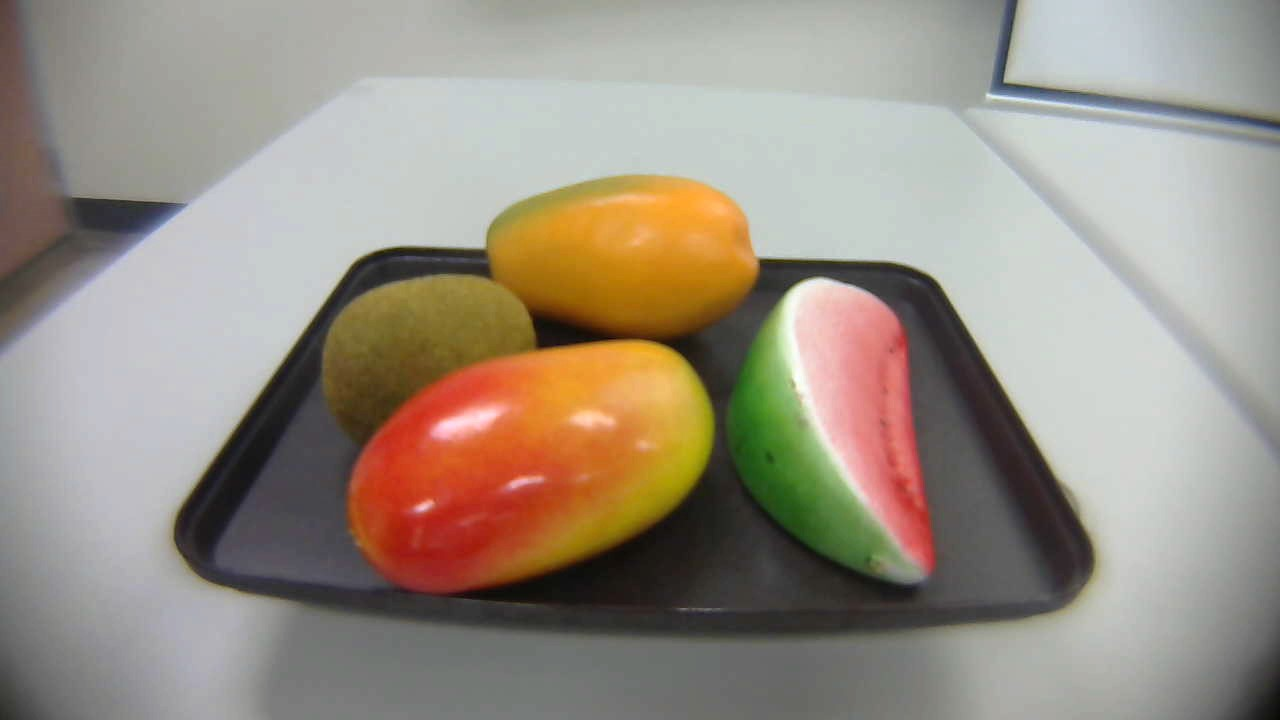kiwi fruit: (315, 274, 547, 441)
papya: (476, 169, 766, 335)
red mango: (339, 335, 713, 602)
water melon: (701, 274, 957, 602)
